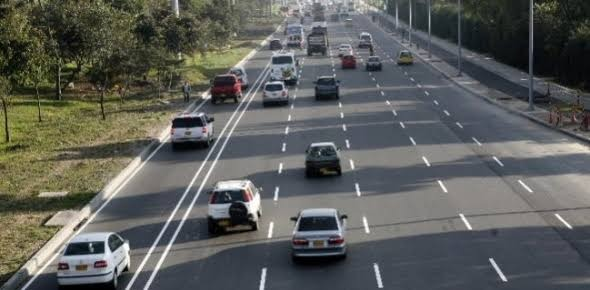car: (35, 3, 542, 290), (207, 1, 573, 243), (399, 220, 590, 290), (37, 231, 131, 290), (48, 231, 129, 288), (284, 207, 350, 267), (204, 178, 263, 235), (300, 140, 350, 179), (167, 111, 211, 150), (238, 60, 275, 101), (258, 62, 294, 102), (306, 64, 340, 100), (210, 71, 242, 103)
